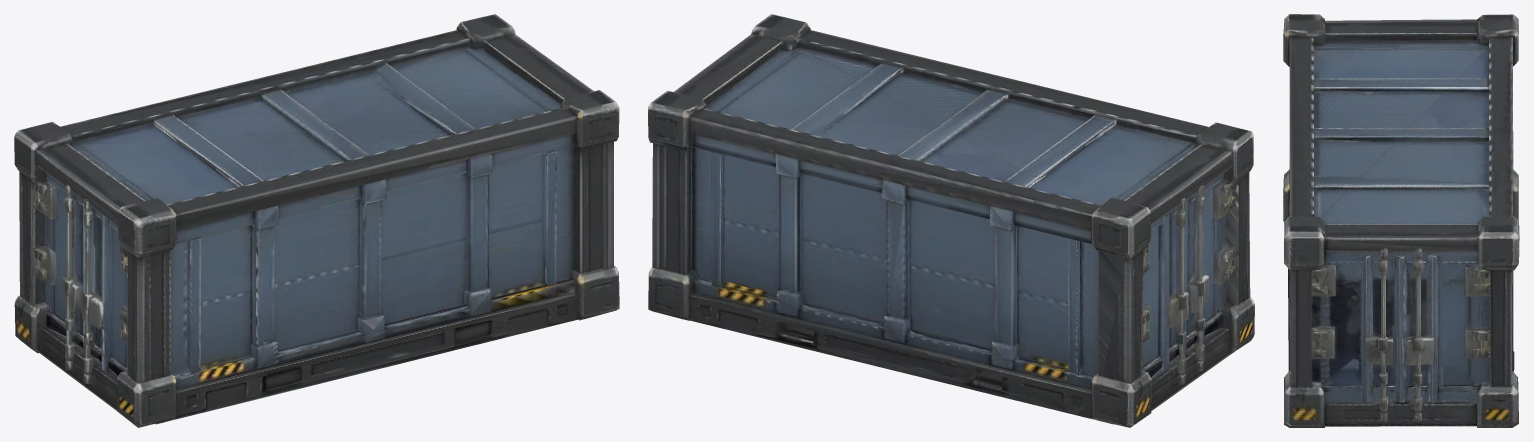
The picture shows the model from 3 angles, left to right: view 1: azimuth 30°, elevation 25°; view 2: azimuth 150°, elevation 25°; view 3: azimuth 270°, elevation 25°; orthographic projection. The views are drawn at different scales.
Parts seen in each view (by area): view 1: mesh_node; view 2: mesh_node; view 3: mesh_node.
Part boxes in pixels (x1=…): mesh_node: x1=14, y1=14, x2=619, y2=427; mesh_node: x1=648, y1=14, x2=1254, y2=427; mesh_node: x1=1283, y1=14, x2=1519, y2=427.
Size of the model in its own units: 1 by 0.4151 by 0.4512.
1 material, 1 textured.
